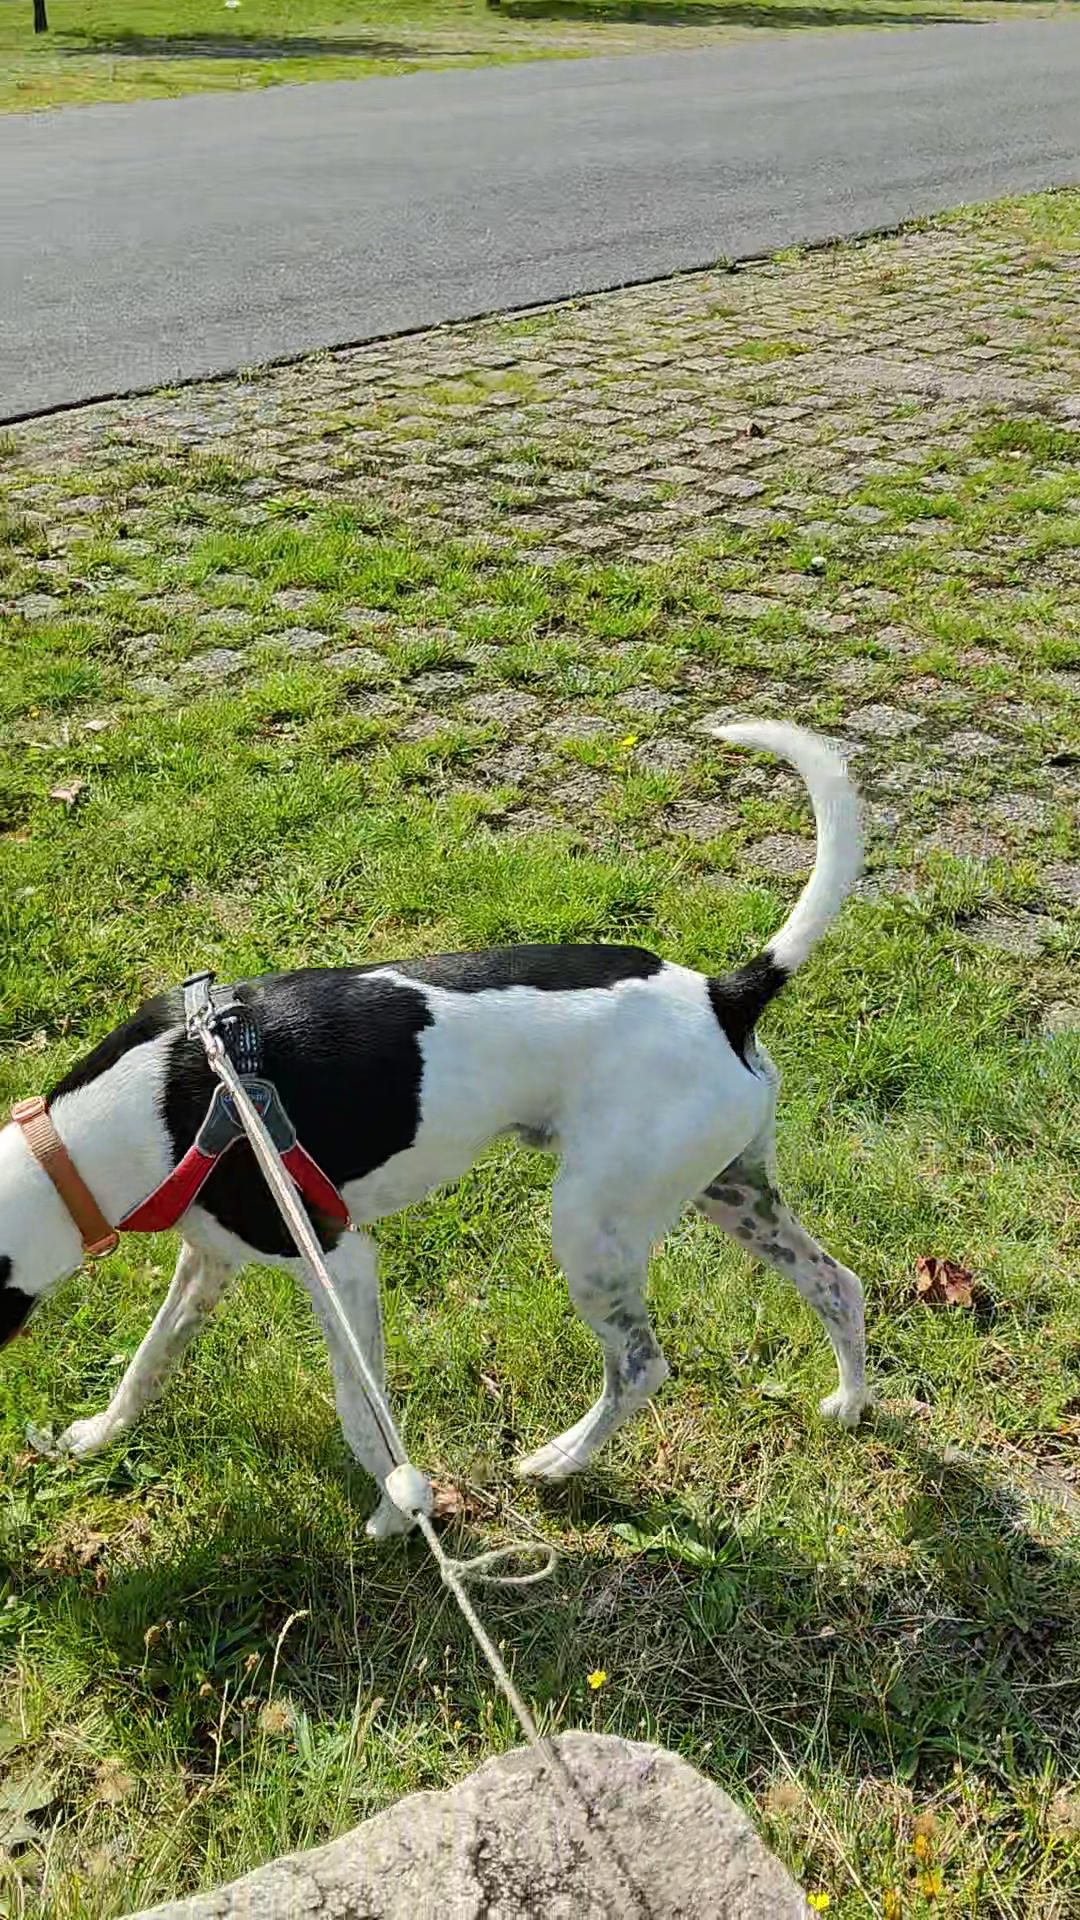Dog: (0, 671, 928, 1524)
